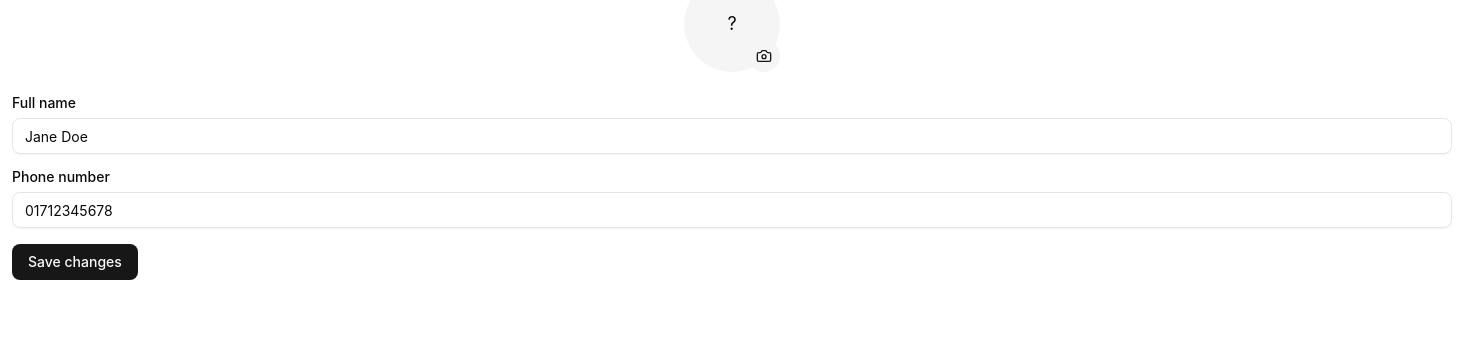
EditProfileForm › shows the server error message when the update fails
What coordinates should you click on to do the following:
click the button "Save changes"
I would click on:
 (75, 262)
Its box is [12, 244, 138, 280].
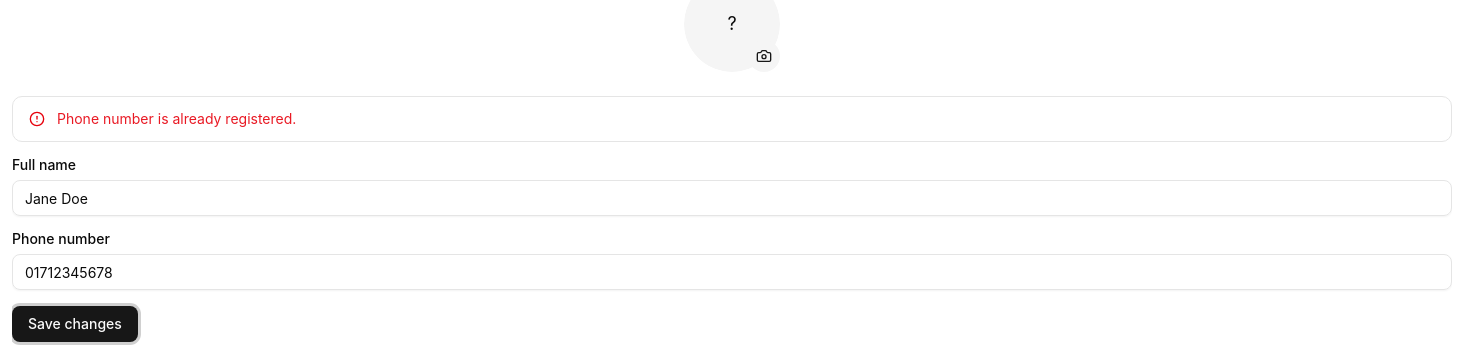
Check: the text "Phone number is already registered." is shown, box [57, 110, 296, 127]
